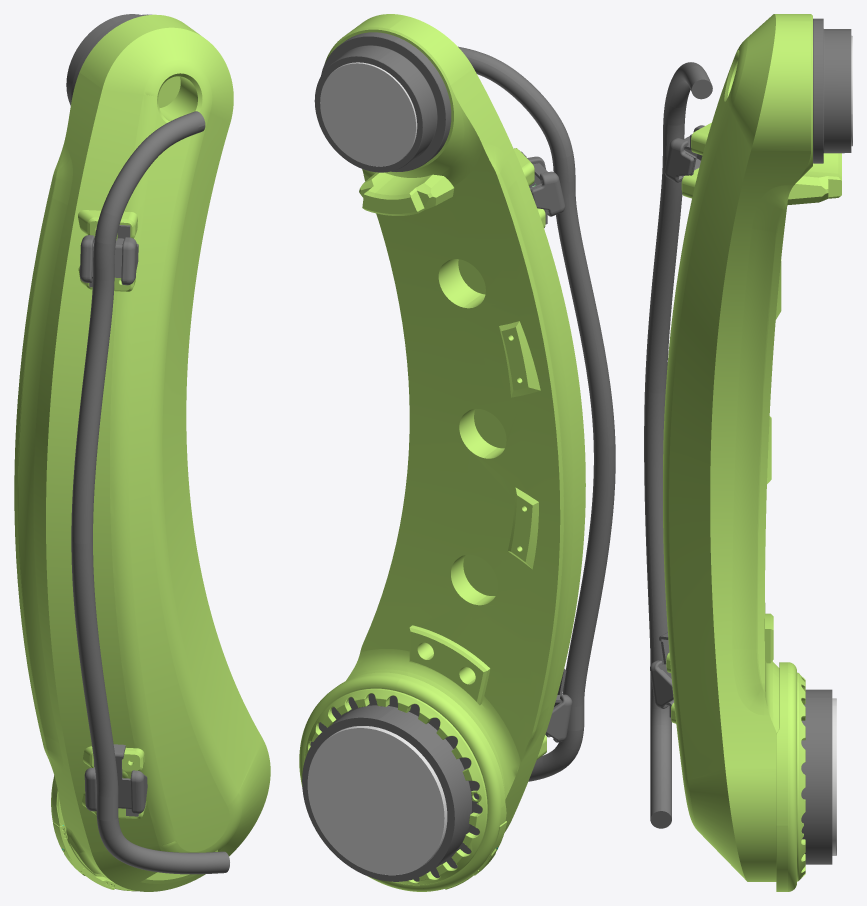
3 views of the same model, side by side, from view 1: azimuth 30°, elevation 25°; view 2: azimuth 150°, elevation 25°; view 3: azimuth 270°, elevation 25° (orthographic).
Visible parts, largest first — view 1: Mesh_0; view 2: Mesh_0; view 3: Mesh_0.
Part boxes in pixels (left/top/right/bottom): Mesh_0: left=14, top=14, right=270, bottom=891; Mesh_0: left=299, top=14, right=615, bottom=891; Mesh_0: left=644, top=14, right=852, bottom=891.
Bounding box in the file's own units: 0.3165 × 0.2317 × 1.05.
